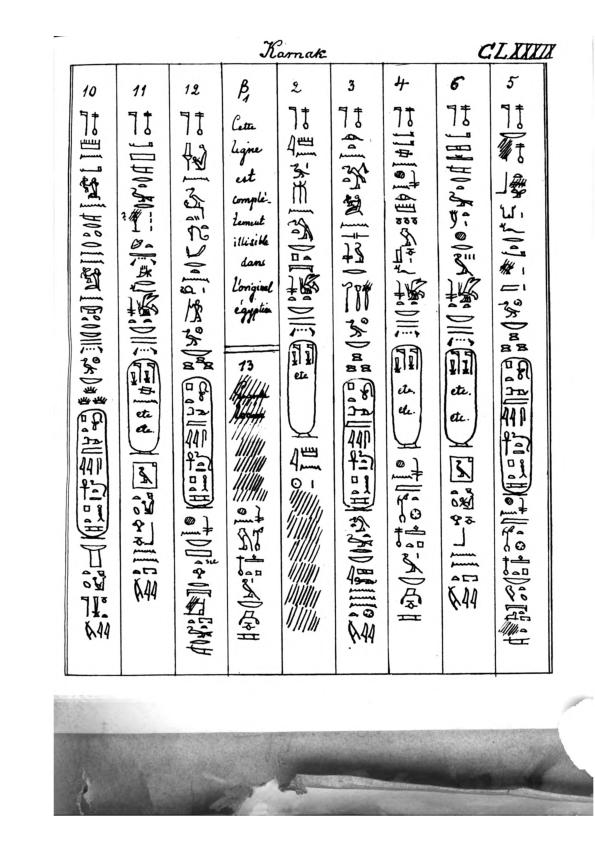circle: (178, 373, 219, 513), (339, 375, 380, 514), (73, 405, 114, 542), (497, 353, 535, 498), (124, 356, 165, 459), (284, 337, 322, 443), (390, 342, 425, 452), (443, 347, 479, 451)
